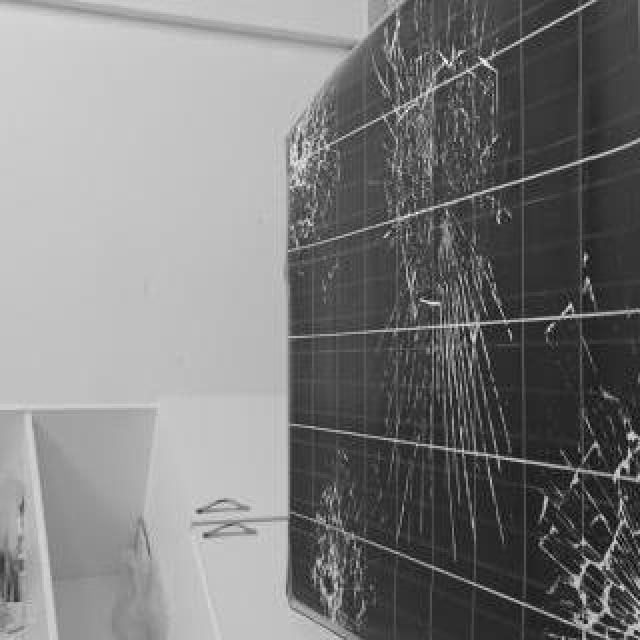Physical-damage: (371, 39, 514, 507), (550, 378, 640, 640), (291, 87, 345, 267), (313, 493, 378, 634)
